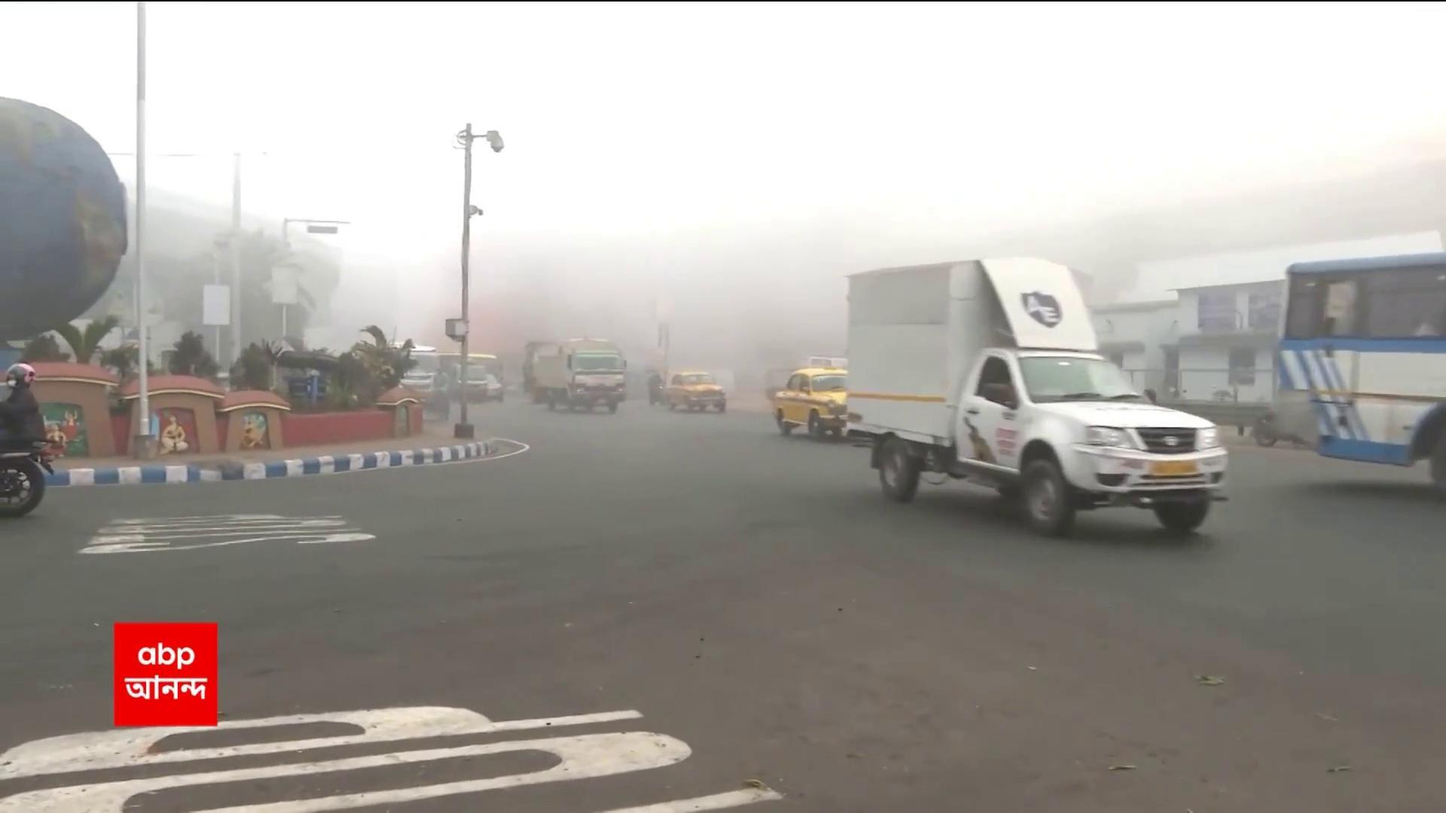Car: (774, 368, 844, 440), (664, 370, 727, 415)
Truck: (841, 252, 1231, 535), (531, 336, 628, 411)
